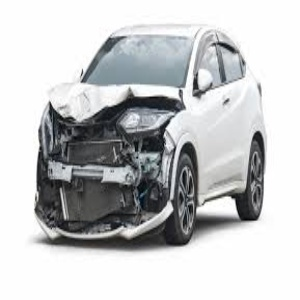bonnet: (53, 78, 172, 123)
bumper: (31, 150, 174, 241)
